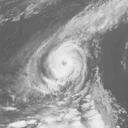cyclone: (26, 40, 87, 95)
